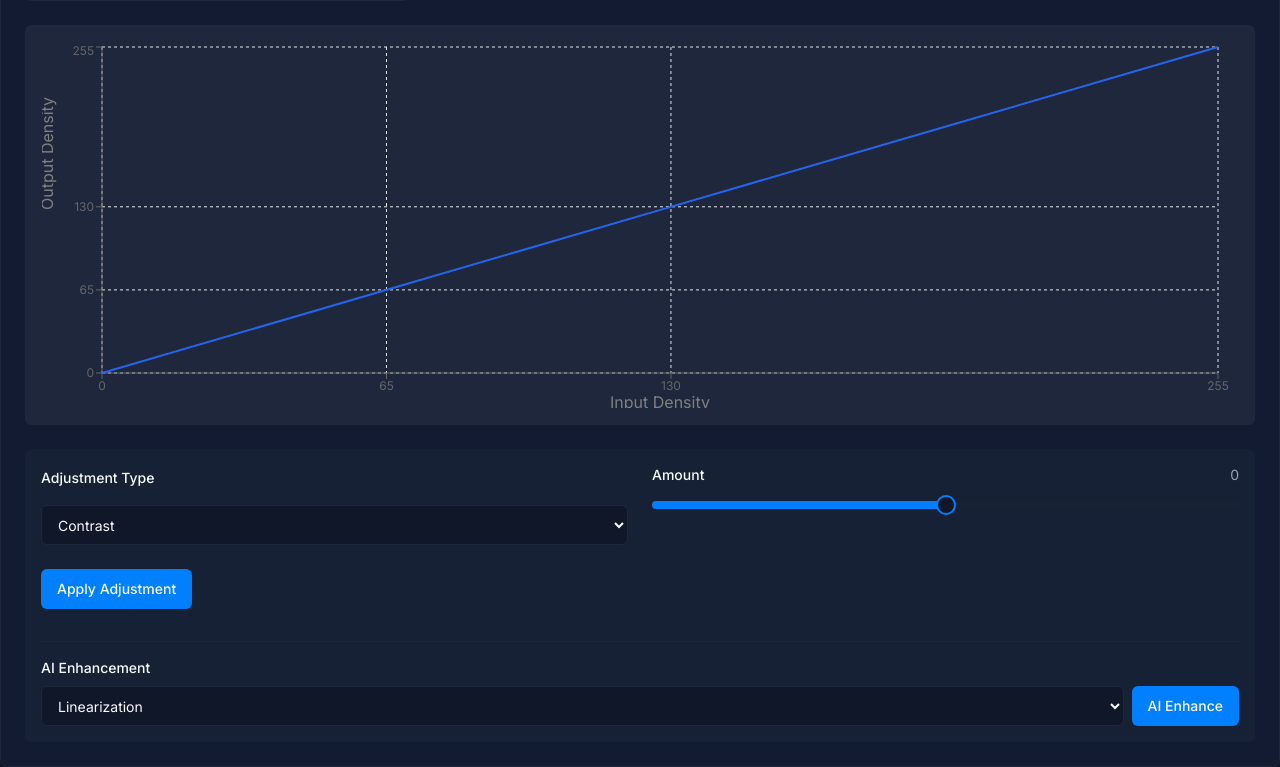
Scenario: CurveEditor › shows error message when AI enhance fails
(page scrolled)
Click the button with test id "ai-enhance-btn" at {"x": 1185, "y": 706}, box [1132, 686, 1239, 726]
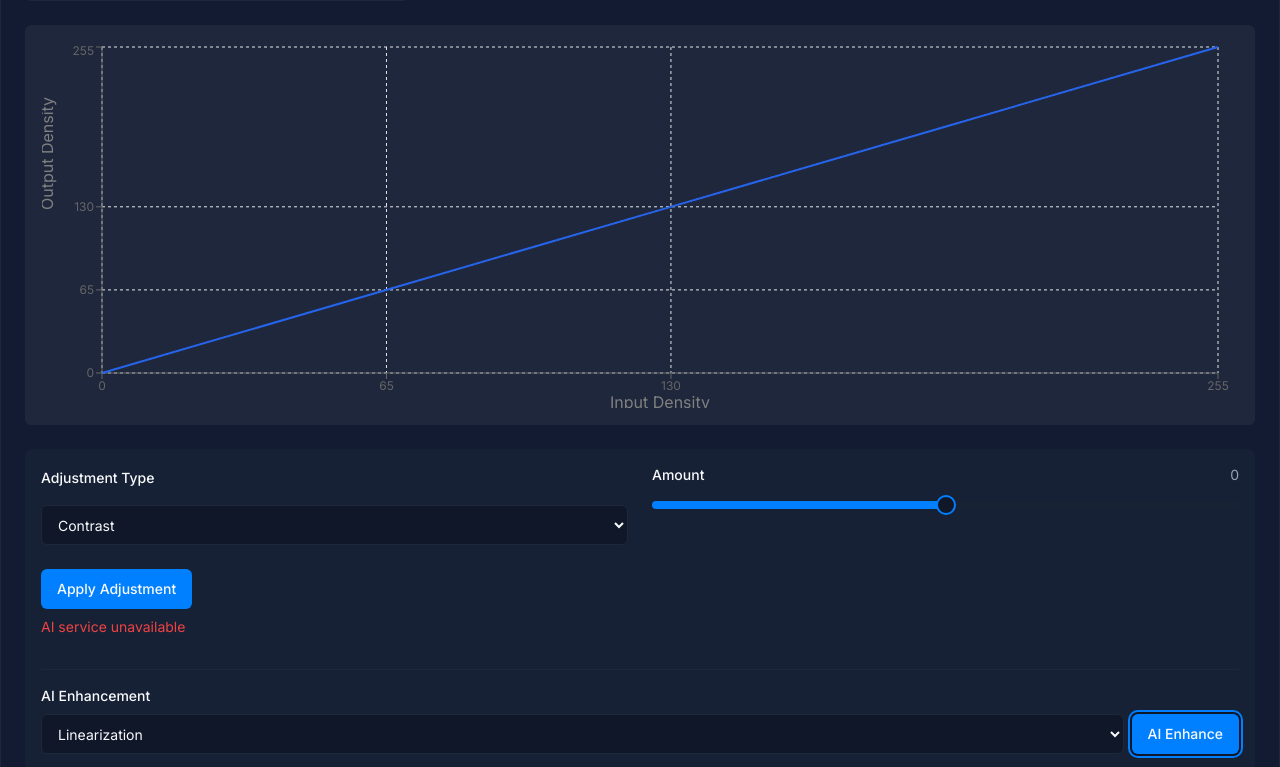
Result: the message "AI service unavailable" is shown at [41, 618, 185, 635]
